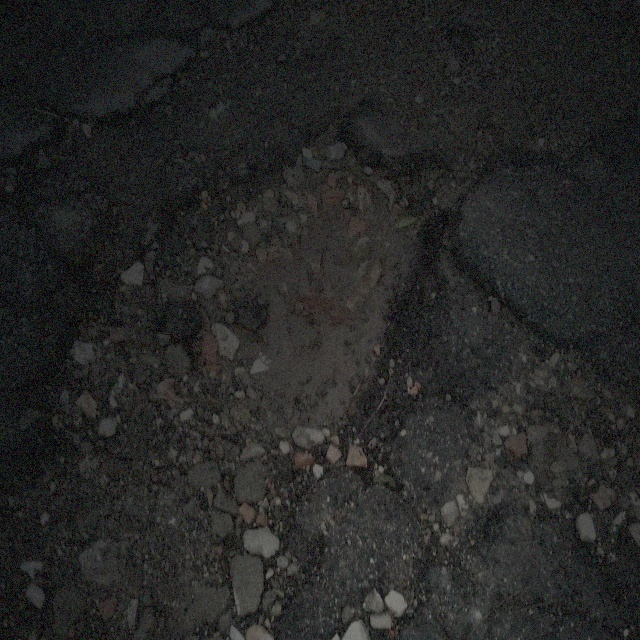pothole: (66, 108, 458, 503)
